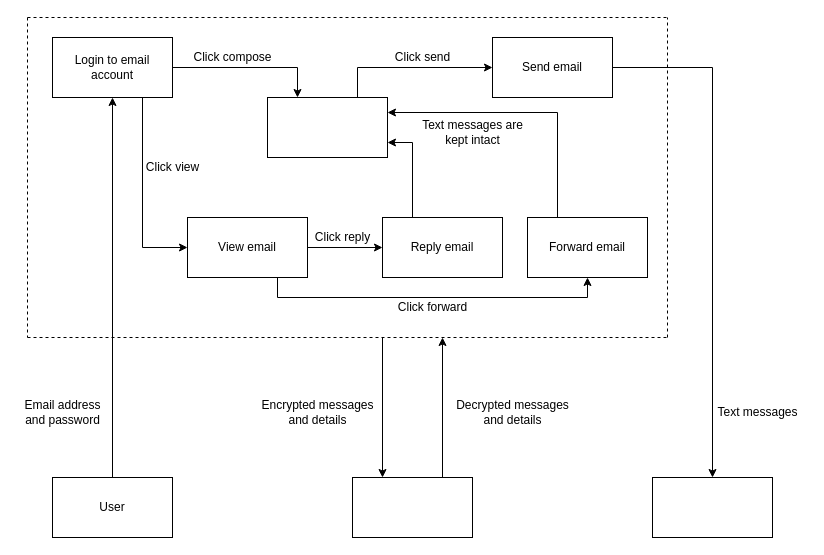
Image size: 824x555. Some labels were removed from this diagram. The shapes that lost their labels are listed below. From the top down, each one's centre as x and y in pixels, then its label:
[327,127]: Compose email
[412,507]: Email database
[712,507]: Recipient
